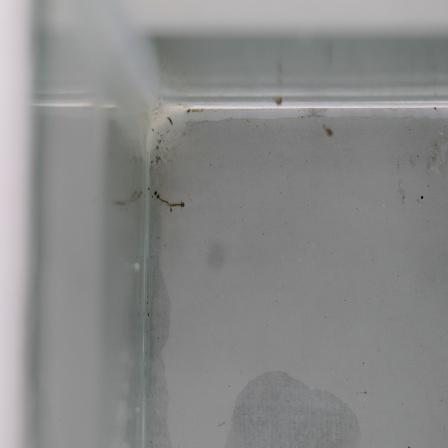Jentik-Nyamuk: (149, 186, 188, 214)
